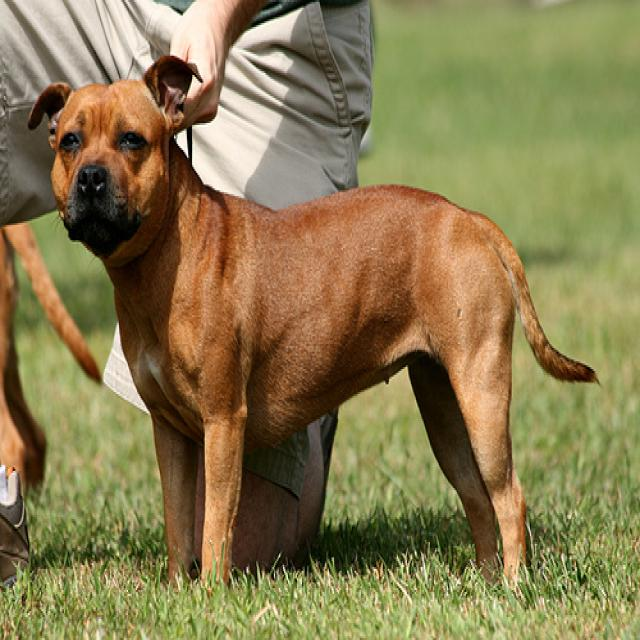dog-staffordshire_bull_terrier: (28, 52, 607, 598)
